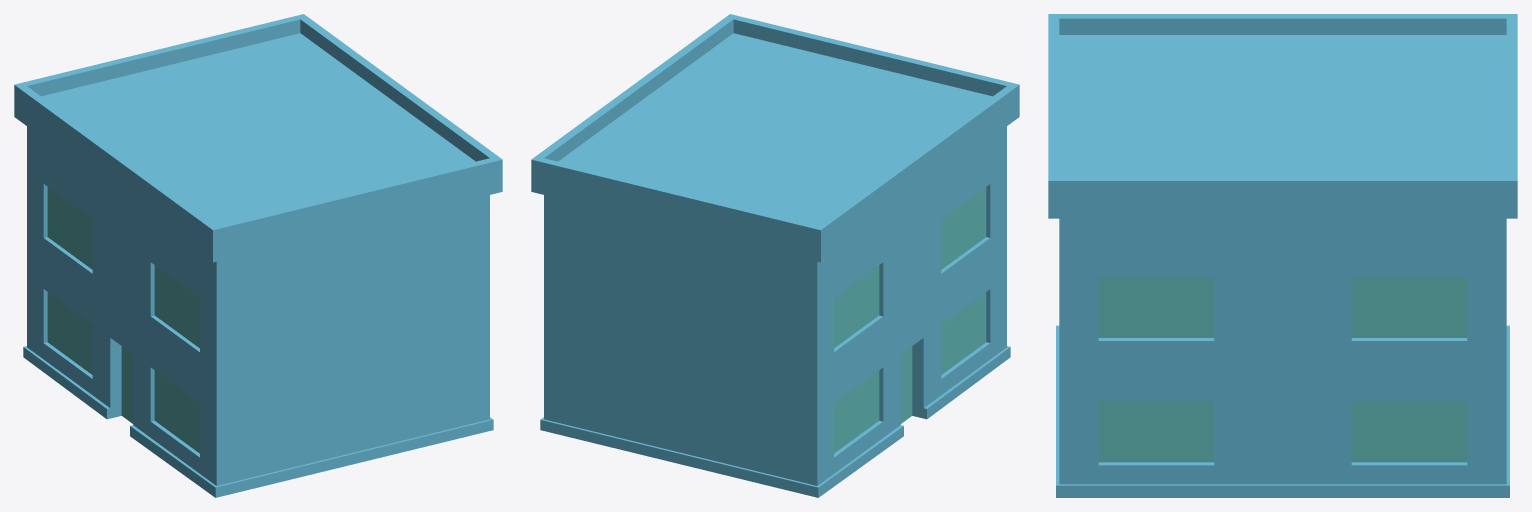
File: BG_sptp_building_01.fbx
3 renders of one model, left to right at view 1: azimuth 30°, elevation 25°; view 2: azimuth 150°, elevation 25°; view 3: azimuth 270°, elevation 25°, orthographic. The views are drawn at different scales.
Visible parts, largest first — view 1: sptp_building_01.001; view 2: sptp_building_01.001; view 3: sptp_building_01.001.
Part boxes in pixels (left/top/right/bottom): sptp_building_01.001: left=14, top=14, right=502, bottom=497; sptp_building_01.001: left=531, top=14, right=1019, bottom=497; sptp_building_01.001: left=1048, top=14, right=1517, bottom=497.
Size of the model in its own units: 3.18 by 2.84 by 3.78.
